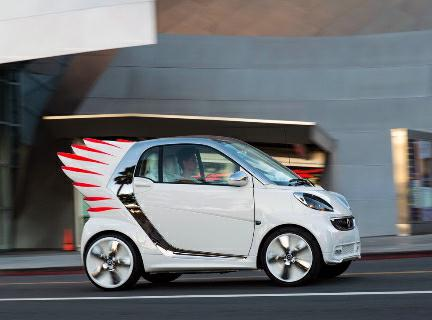smart-forjeremy: (66, 130, 352, 286)
